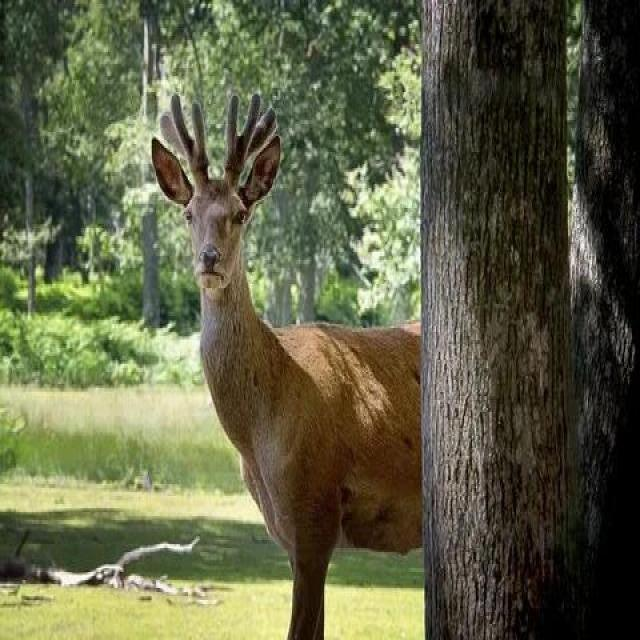deer: (136, 78, 434, 577)
